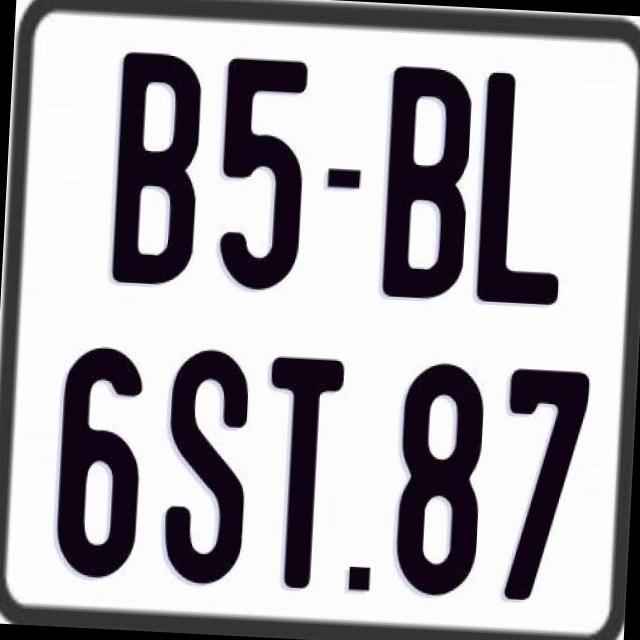5: (212, 54, 307, 292)
6: (52, 343, 148, 580)
7: (496, 365, 595, 609)
8: (390, 362, 486, 606)
B: (379, 62, 475, 300), (108, 51, 203, 289)
L: (472, 72, 572, 310)
S: (157, 346, 255, 589)
T: (260, 351, 348, 589)
